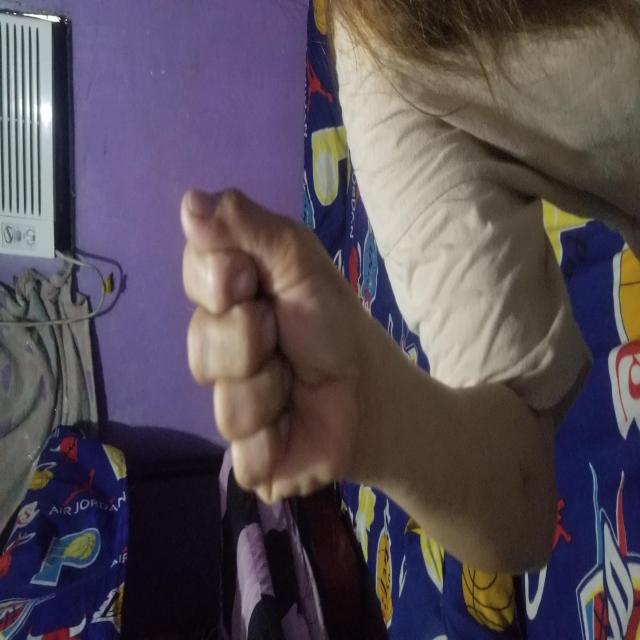A: (139, 180, 454, 355)
